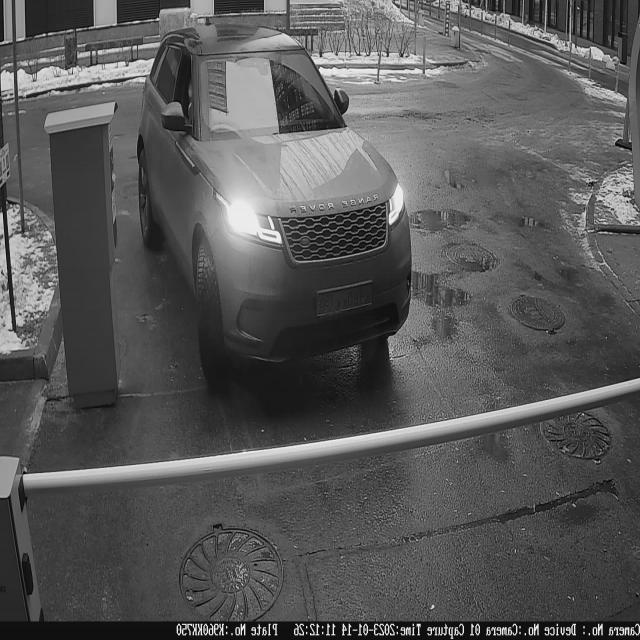car-plate-numbers: (317, 280, 376, 325)
